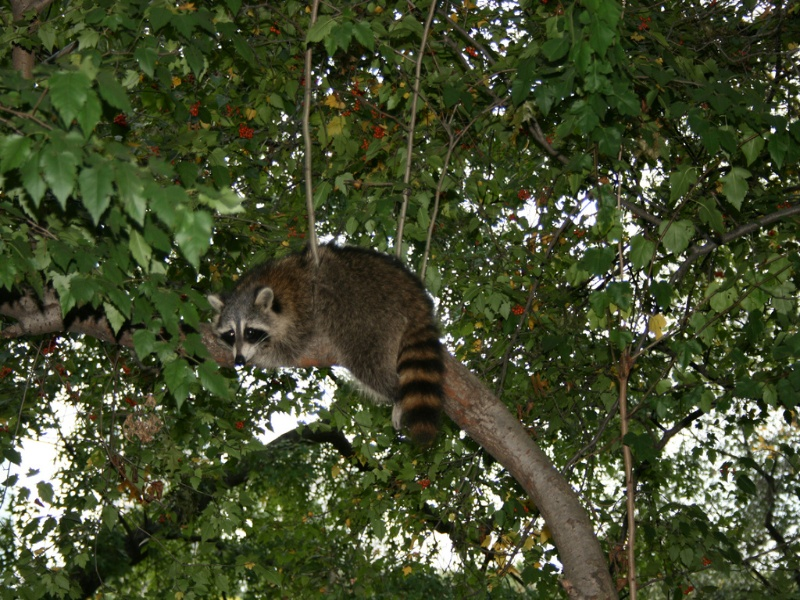raccoon: (210, 240, 451, 451)
